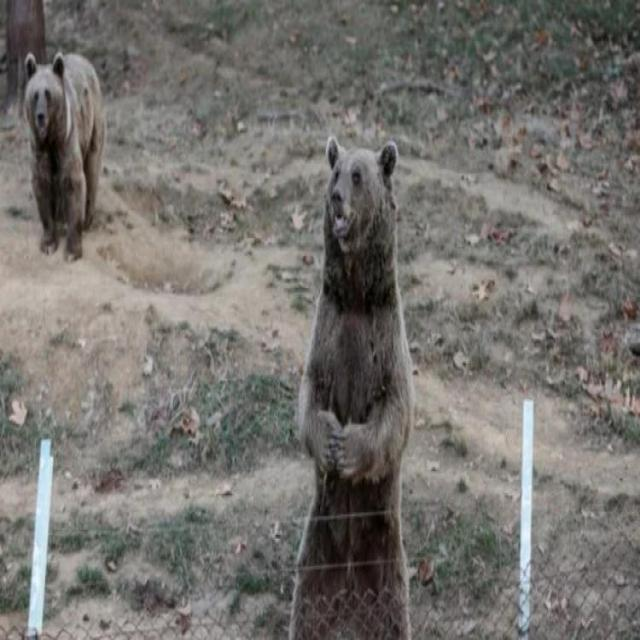Bear: (288, 138, 414, 640), (5, 47, 106, 261)
